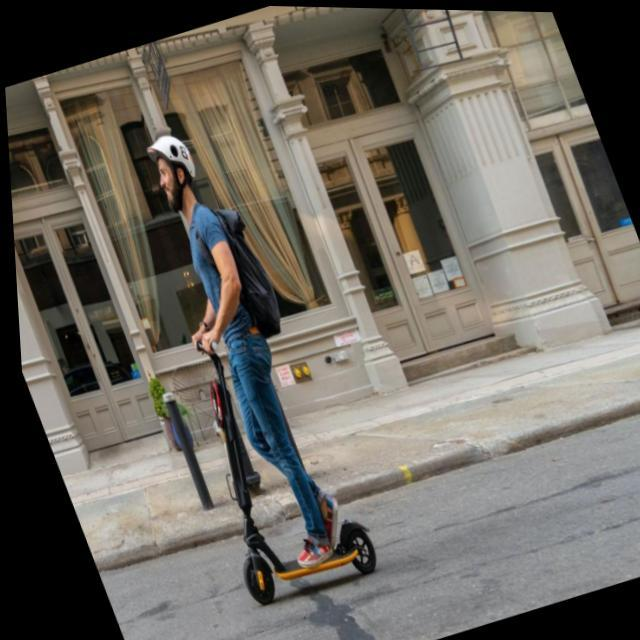Helmet: (140, 129, 206, 205)
